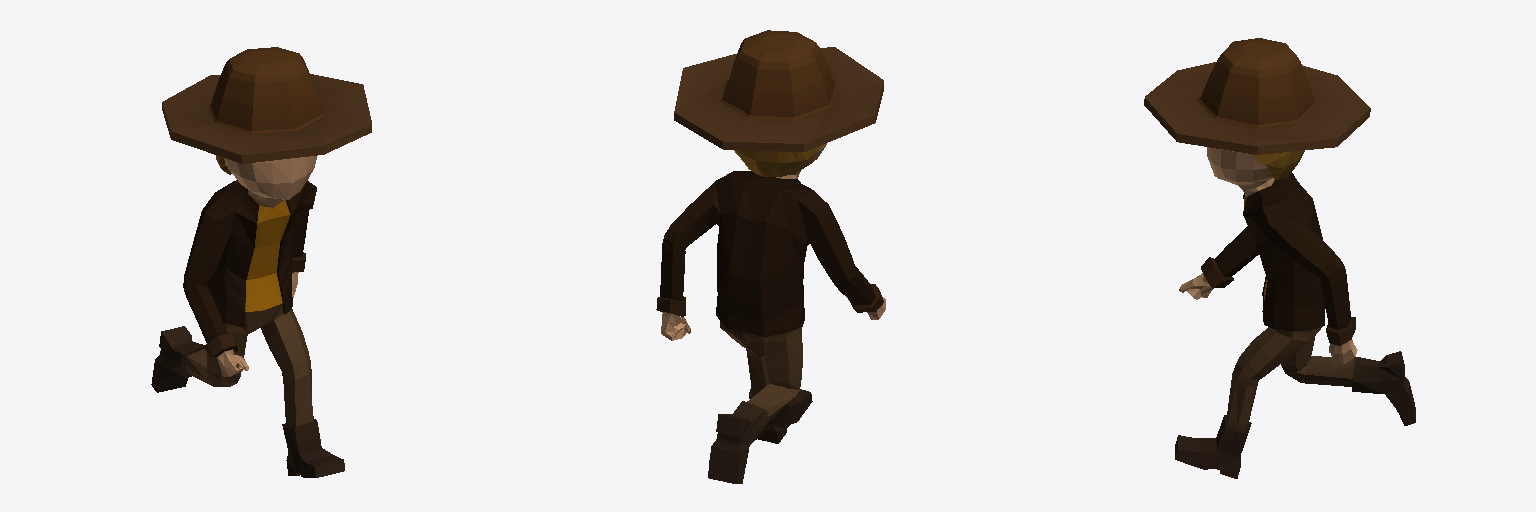
The picture shows the model from 3 angles: view 1: azimuth 30°, elevation 25°; view 2: azimuth 150°, elevation 25°; view 3: azimuth 270°, elevation 25°; orthographic projection.
Parts seen in each view (by area): view 1: Character_Cube.008; view 2: Character_Cube.008; view 3: Character_Cube.008.
Part boxes in pixels (bbox=[...]): Character_Cube.008: bbox=[151, 47, 371, 477]; Character_Cube.008: bbox=[656, 30, 885, 483]; Character_Cube.008: bbox=[1144, 38, 1415, 478].
Size of the model in its own units: 7.15 by 14.67 by 8.74.
1 materials, 1 textured.